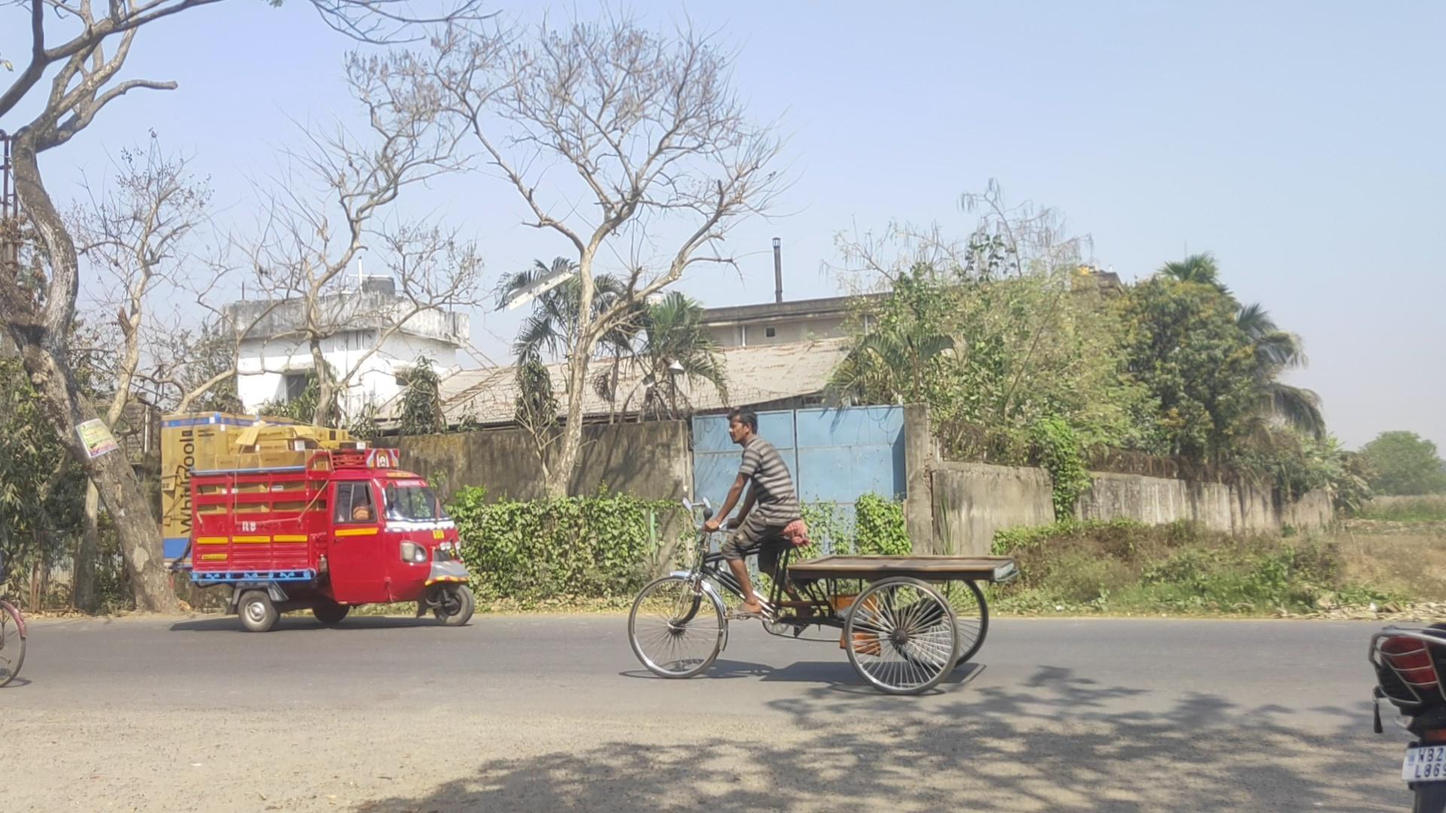van: (159, 411, 474, 633)
